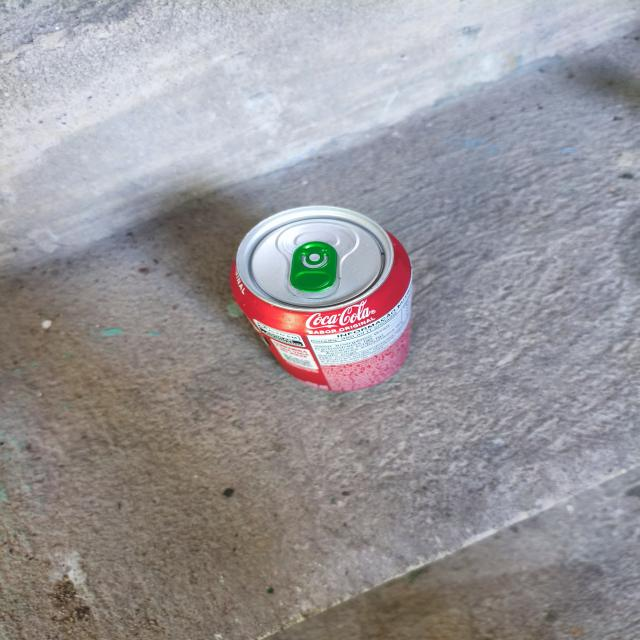Coca Cola: (219, 196, 427, 396)
